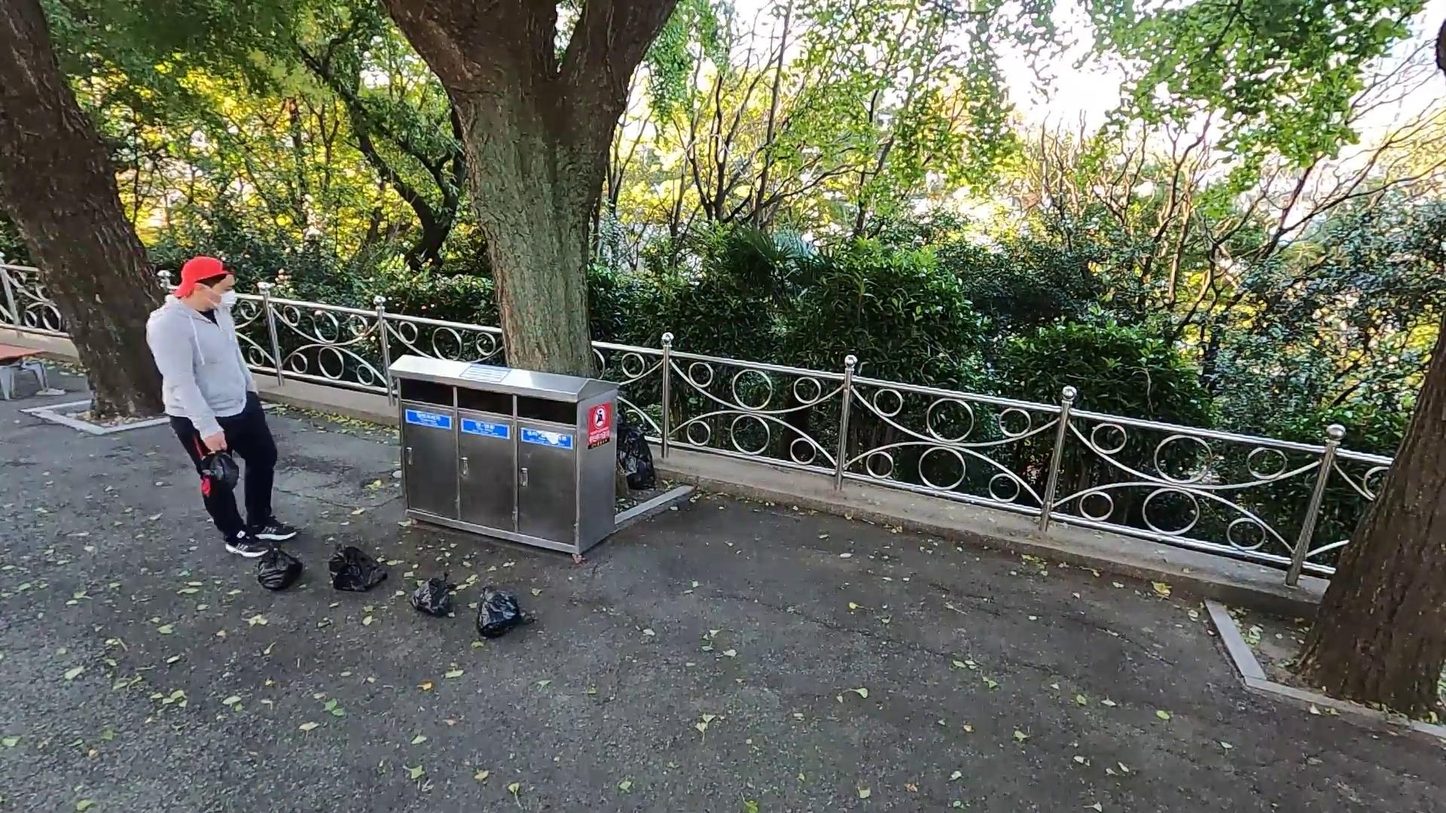person: (137, 254, 304, 562)
trash: (616, 410, 662, 495), (476, 586, 537, 645), (321, 550, 392, 598), (253, 536, 303, 598), (402, 568, 458, 617), (189, 441, 243, 490)
